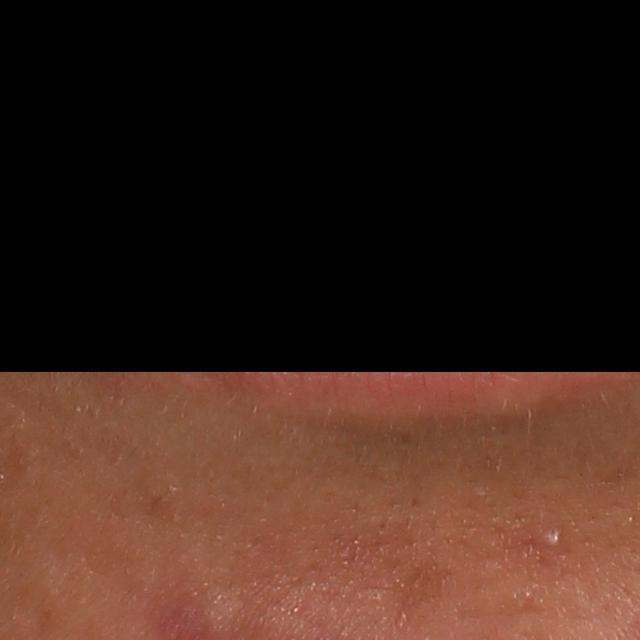pustule: (530, 523, 570, 553)
